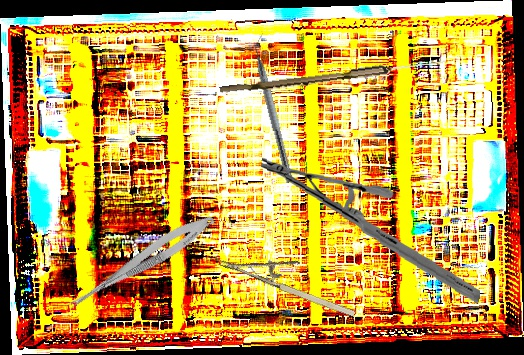Chopper: (247, 32, 304, 184)
Micro Scissor: (60, 207, 219, 322)
Needle Holder: (254, 155, 487, 304), (217, 232, 365, 322)
Surgical Spoon: (219, 55, 447, 98)
